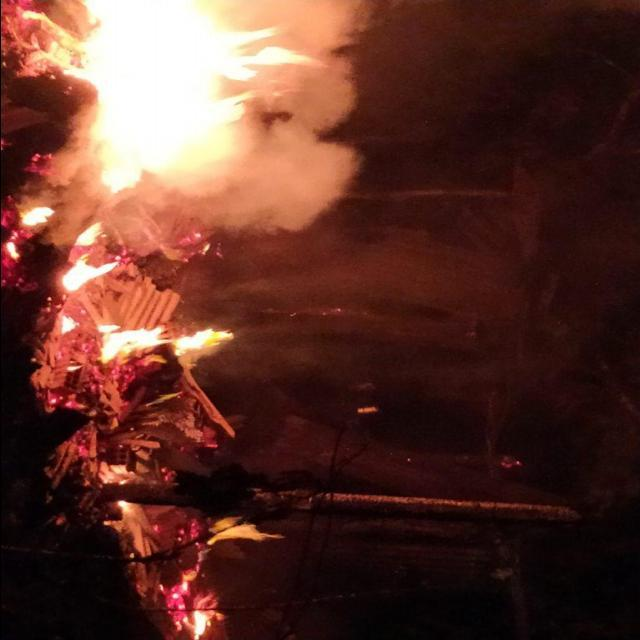Fire: (76, 2, 320, 212), (205, 515, 286, 551), (102, 322, 170, 359), (58, 254, 124, 292), (174, 326, 232, 362), (191, 606, 226, 636), (22, 206, 54, 232), (73, 220, 101, 248)
